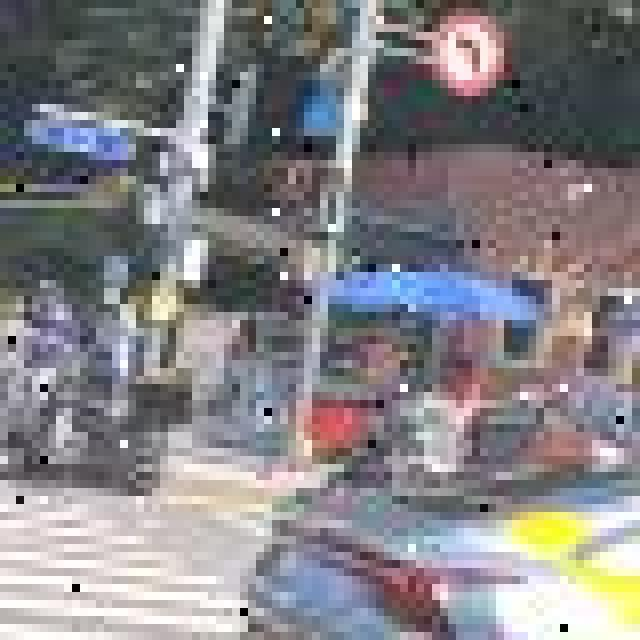crosswalk: (0, 480, 256, 632)
